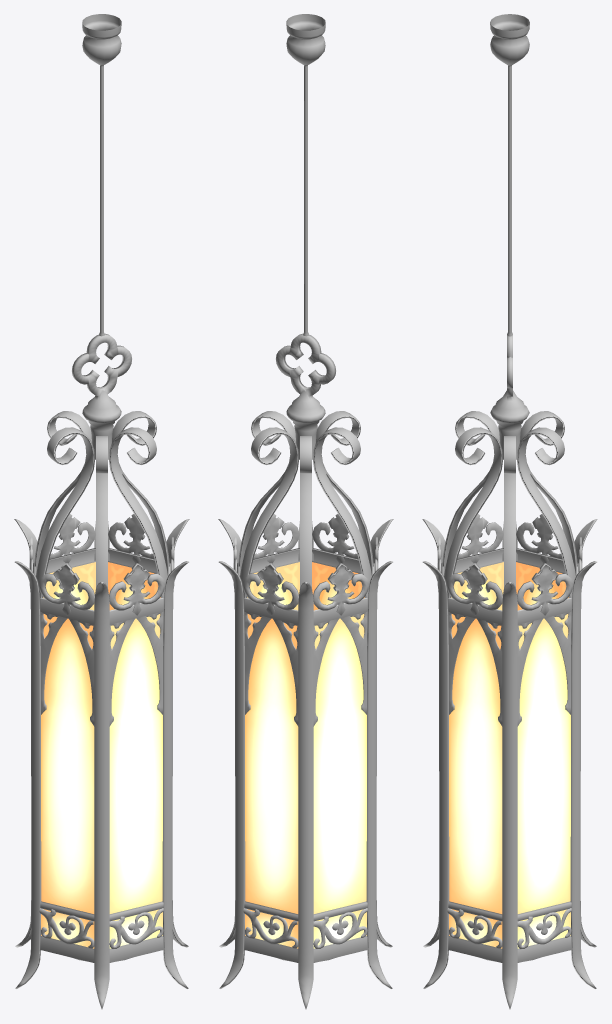
The picture shows the model from 3 angles, left to right: view 1: azimuth 30°, elevation 25°; view 2: azimuth 150°, elevation 25°; view 3: azimuth 270°, elevation 25°; orthographic projection.
Visible parts, largest first — view 1: lamp; view 2: lamp; view 3: lamp.
Boxes of the visible parts, x1,y1,x2,y2 form: lamp: (14,14,189,1009); lamp: (218,14,393,1009); lamp: (422,14,597,1009).
Size of the model in its own units: 41.42 by 213 by 35.87.
